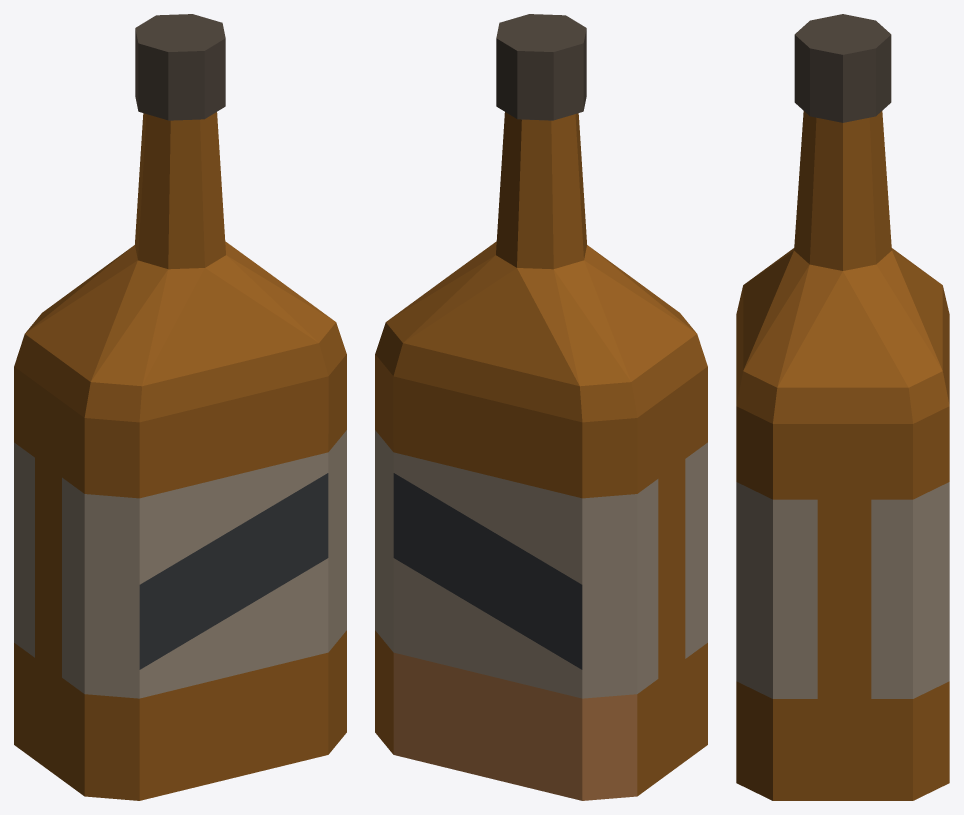
The model's file is SM_Gen_Prop_Bottle_05.obj.
The picture shows the model from 3 angles, left to right: view 1: azimuth 30°, elevation 25°; view 2: azimuth 150°, elevation 25°; view 3: azimuth 270°, elevation 25°; orthographic projection.
Visible parts, largest first — view 1: SM_Gen_Prop_Bottle_05_0; view 2: SM_Gen_Prop_Bottle_05_0; view 3: SM_Gen_Prop_Bottle_05_0.
Part boxes in pixels (box(x1,y1,x2,y2)): SM_Gen_Prop_Bottle_05_0: box(14, 14, 346, 800); SM_Gen_Prop_Bottle_05_0: box(375, 14, 707, 800); SM_Gen_Prop_Bottle_05_0: box(736, 14, 949, 800).
Size of the model in its own units: 0.1592 by 0.4092 by 0.1125.
1 material, 1 textured.
